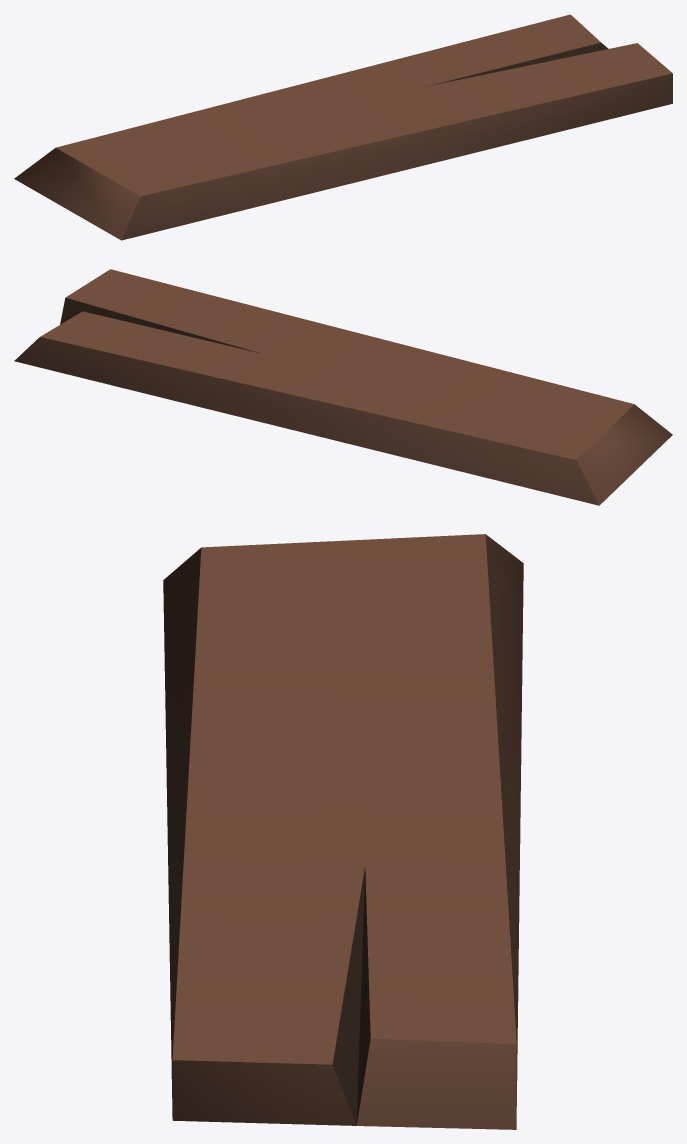
File: Wooden_Plank_1D.fbx
3 renders of one model, top to bottom at view 1: azimuth 30°, elevation 25°; view 2: azimuth 150°, elevation 25°; view 3: azimuth 270°, elevation 25°, orthographic. The views are drawn at different scales.
Parts seen in each view (by area): view 1: Wooden_Plank_1D; view 2: Wooden_Plank_1D; view 3: Wooden_Plank_1D.
Part boxes in pixels (x1,y1,x2,y2): Wooden_Plank_1D: [14, 14, 672, 240]; Wooden_Plank_1D: [14, 269, 672, 505]; Wooden_Plank_1D: [163, 534, 523, 1129].
Bounding box in the file's own units: 1.8 × 0.0897 × 0.4833.
